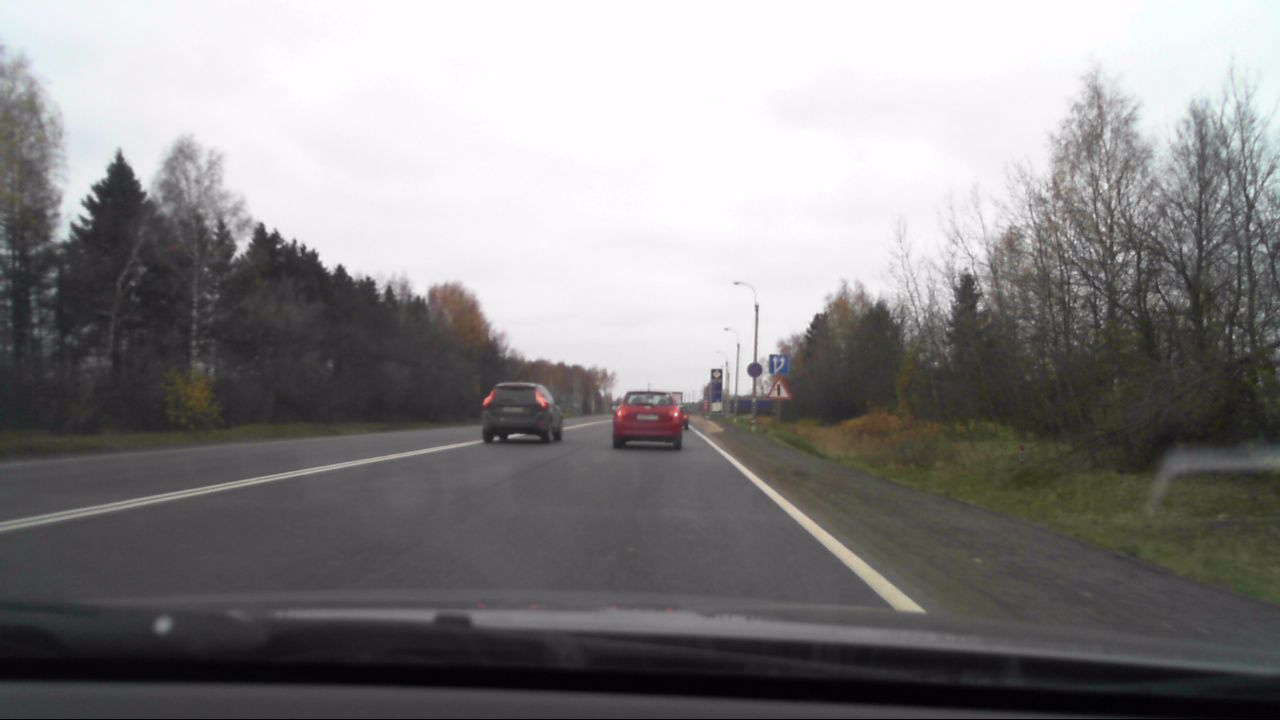No Parking: (744, 360, 763, 377)
